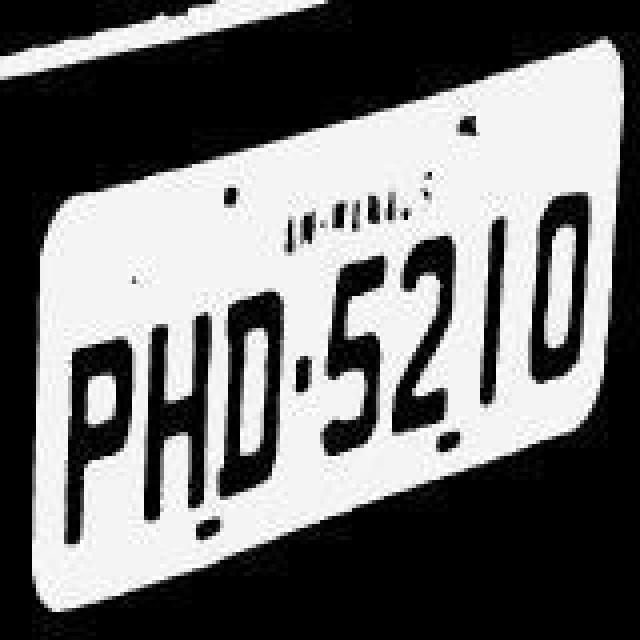1: (468, 190, 508, 434)
2: (388, 234, 460, 438)
5: (320, 244, 392, 468)
D: (214, 272, 290, 512)
H: (142, 278, 218, 522)
O: (526, 184, 594, 400)
P: (56, 294, 136, 554)
